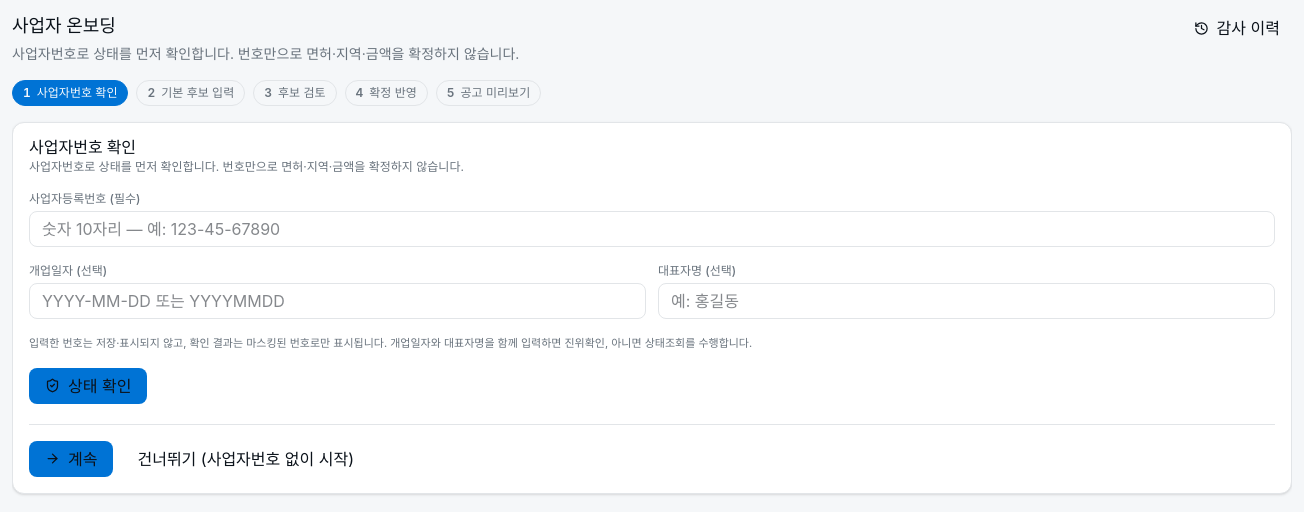
Test: OnboardingWizard › wizard는 사업자번호 확인(1단계)에서 시작하고, 건너뛰기로 seed 단계로 진입한다
Expected: the button "상태 확인" is shown, [29,368,147,404]
Expected: the field labelled "관심 키워드 (필수)" is not shown
Click the button "건너뛰기 (사업자번호 없이 시작)".
click(246, 458)  # box [122,440,370,476]
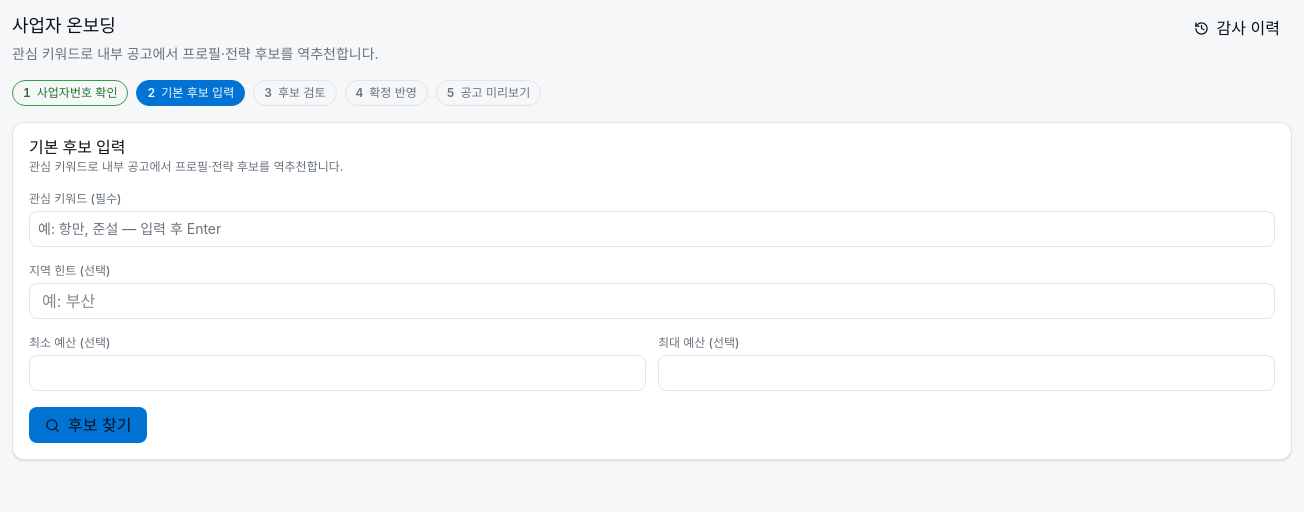
Expected: the field labelled "관심 키워드 (필수)" is shown, [38,219,1266,239]
